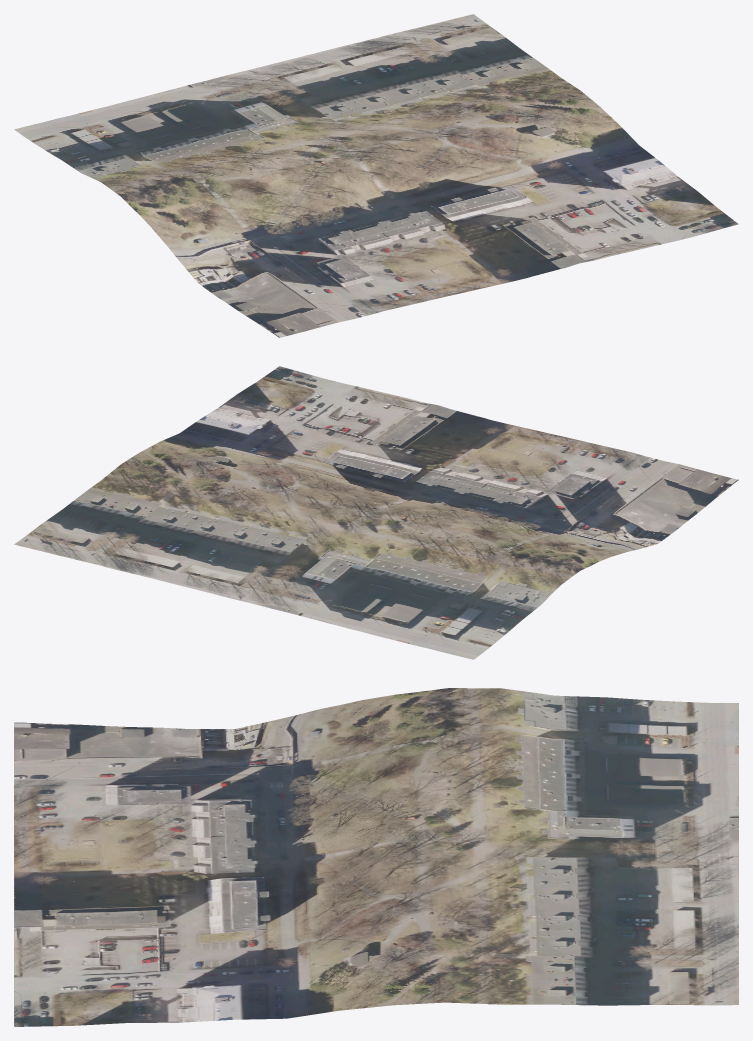
The model's file is CM_Terrain_24488001_6821636.fbx.
The picture shows the model from 3 angles, top to bottom: view 1: azimuth 30°, elevation 25°; view 2: azimuth 150°, elevation 25°; view 3: azimuth 270°, elevation 25°; orthographic projection. The views are drawn at different scales.
Visible parts, largest first — view 1: CM_Terrain_24488001_6821636_LOD0; view 2: CM_Terrain_24488001_6821636_LOD0; view 3: CM_Terrain_24488001_6821636_LOD0.
Part boxes in pixels (x1,y1,x2,y2): CM_Terrain_24488001_6821636_LOD0: (14,14,738,337); CM_Terrain_24488001_6821636_LOD0: (14,366,738,659); CM_Terrain_24488001_6821636_LOD0: (14,688,738,1026).
Size of what is drawn, in the model's own units: 205 by 14.45 by 205.
